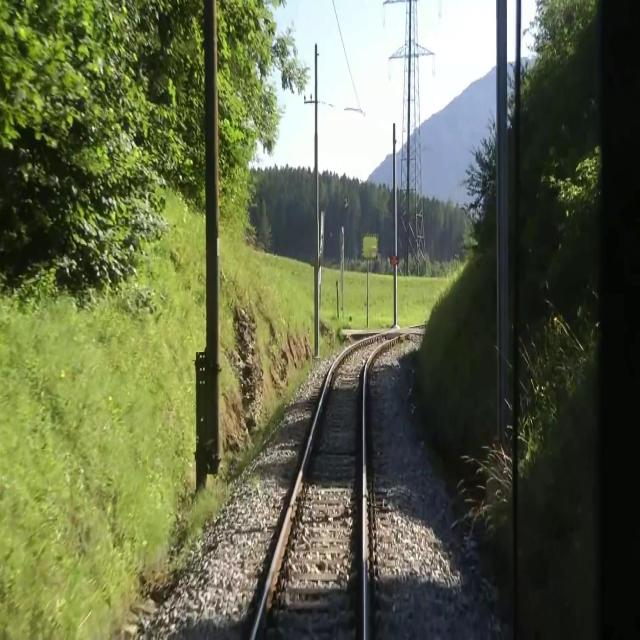rail-track: (255, 331, 405, 639)
